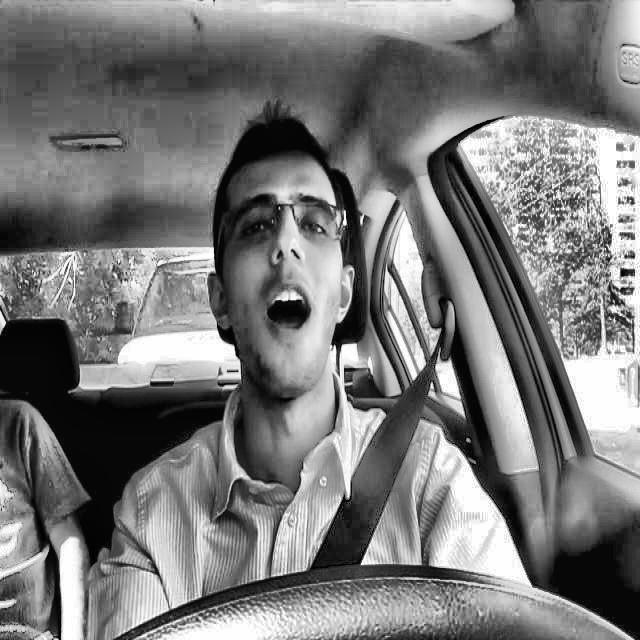open_eyes: (293, 204, 341, 250), (230, 205, 278, 249)
open_mouth: (250, 271, 328, 353)
